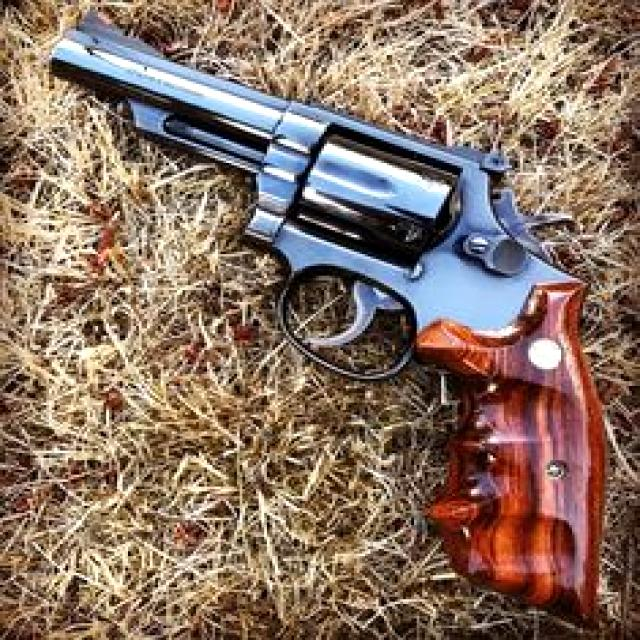revolver: (20, 0, 628, 626)
